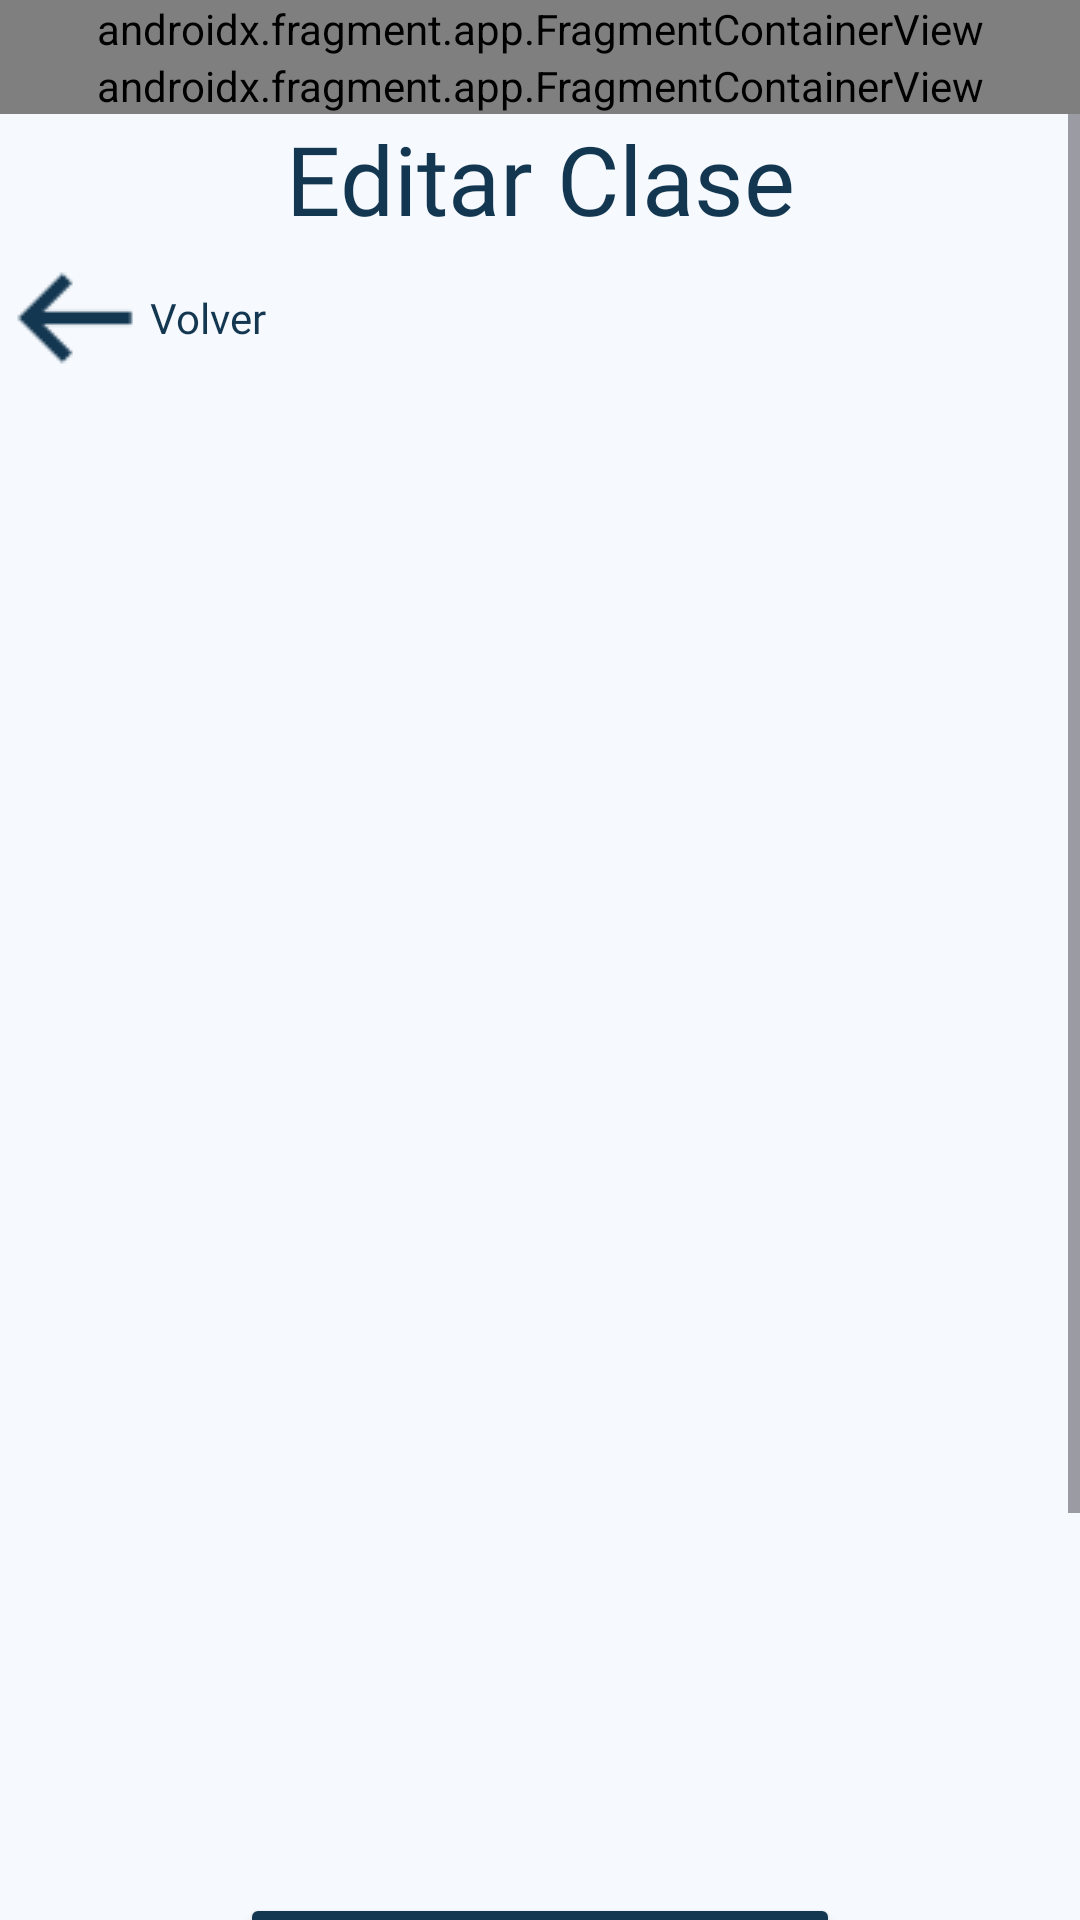

Named icons in this screenshot (1080x1920) and their bounding boxes, (x1, y1, x2, y2):
iconarrowleft: (17, 272, 133, 364)
